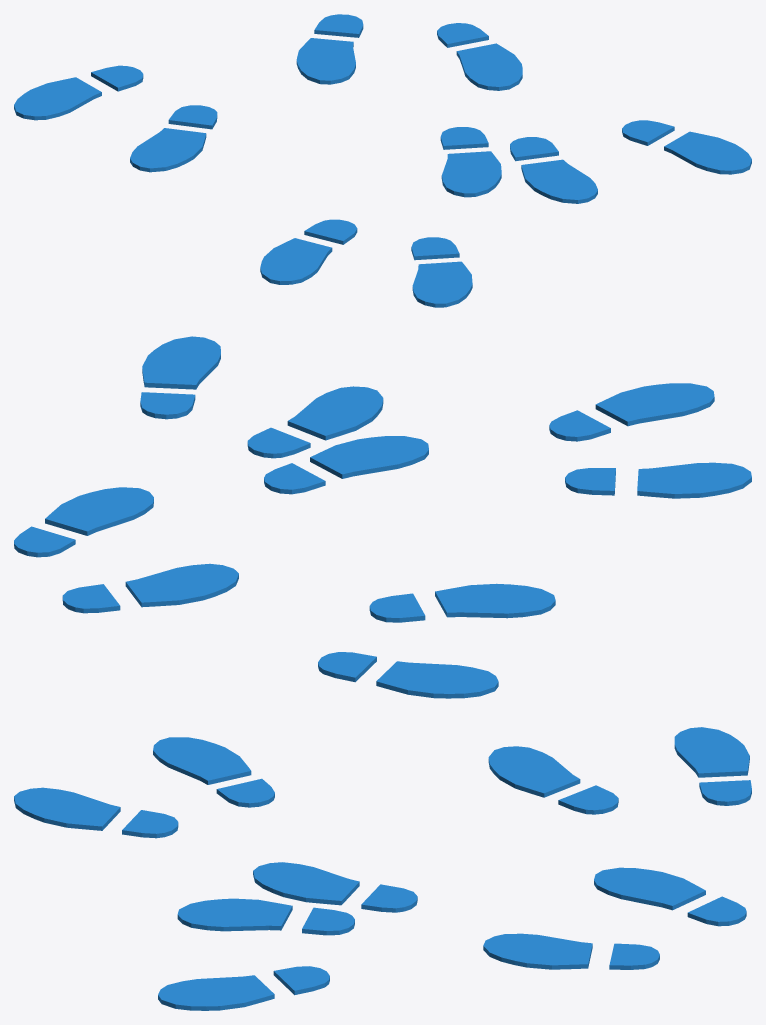
File: footprints musician.glb
The picture shows the model from 3 angles, top to bottom: view 1: azimuth 30°, elevation 25°; view 2: azimuth 150°, elevation 25°; view 3: azimuth 270°, elevation 25°; orthographic projection. The views are drawn at different scales.
Parts seen in each view (by area): view 1: Plane.026; view 2: Plane.026; view 3: Plane.026.
Boxes of the visible parts, box(x1,y1,x2,y2) form: Plane.026: box(14, 14, 751, 307); Plane.026: box(14, 336, 751, 698); Plane.026: box(14, 727, 751, 1010).
Bounding box in the file's own units: 1.06 × 0.0078 × 1.19.
